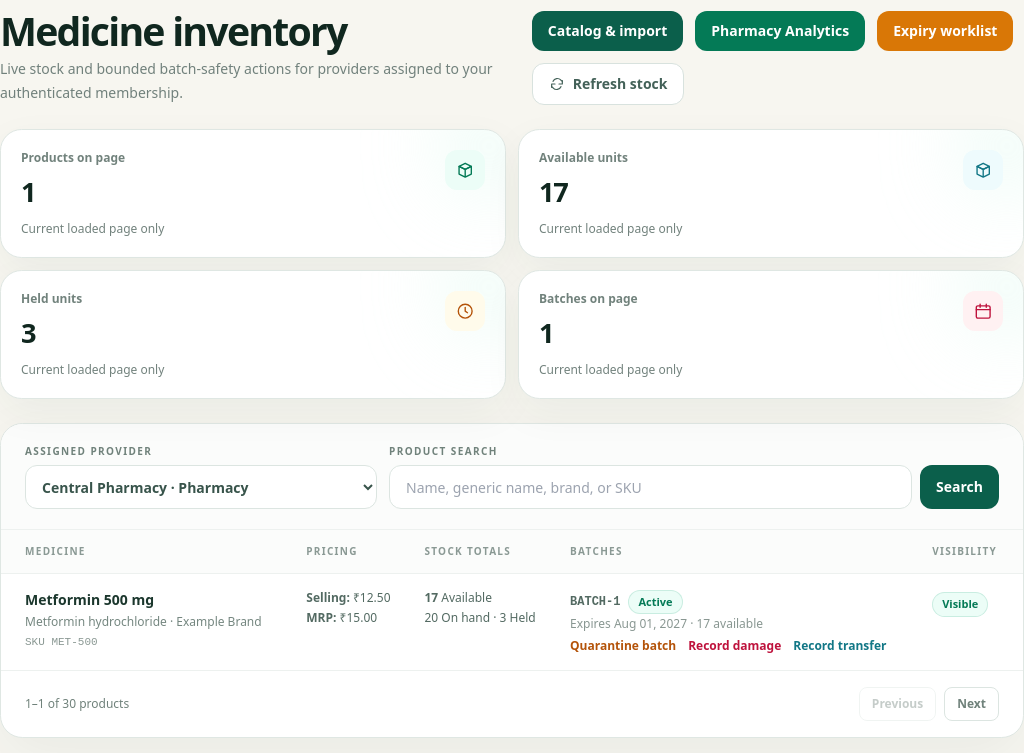
it: InventoryWorkspace live integration › confirms a version-safe one-way quarantine and refreshes live stock
The width and height of the screenshot is (1024, 753).
Click the button with aria-label "Quarantine batch BATCH-1" at (623, 646), box [570,638,676,654]
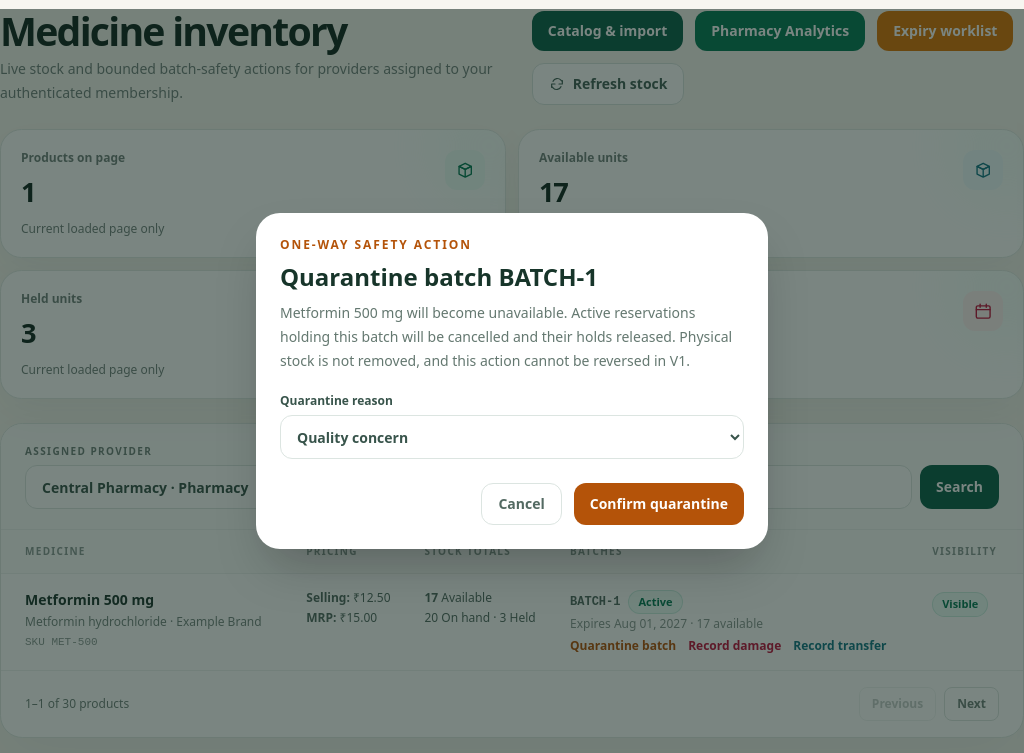
Check: the dialog shows "cannot be reversed in V1", box [280,303,732,370]
Select "Temperature excursion" in the dropdown labelled "Quarantine reason" at (512, 437), box [280,415,744,459]
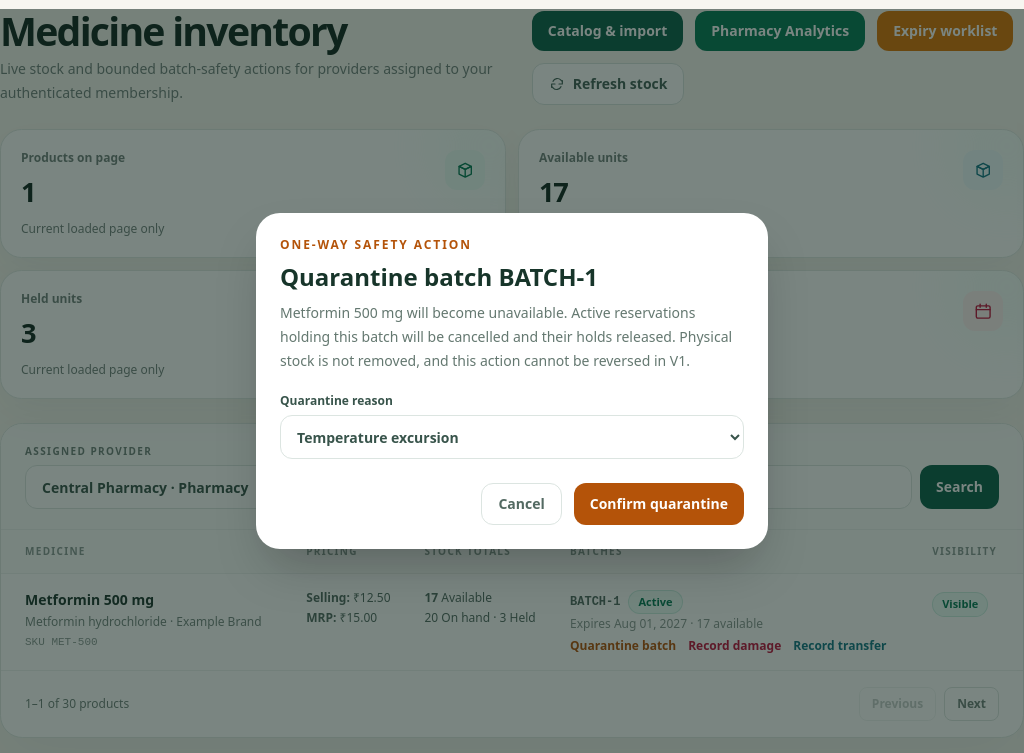
Click the button "Confirm quarantine" at (659, 504), box [574,483,744,525]
(page scrolled)
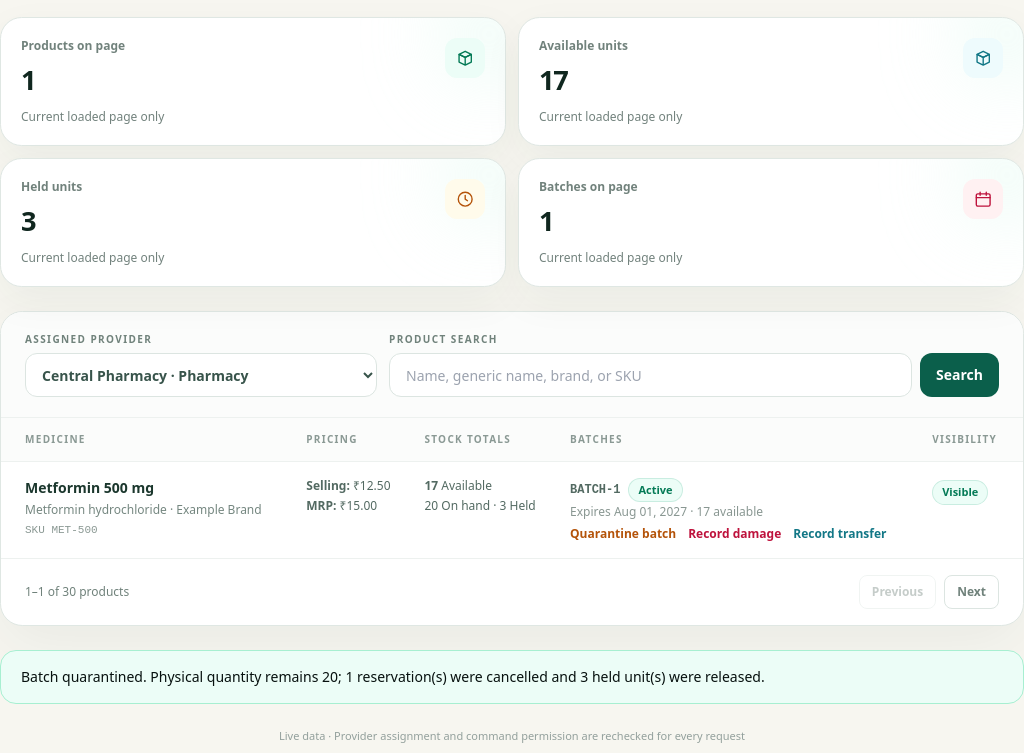
Check: the message shows "1 reservation(s) were cancelled and 3 held unit(s) were released", box [21,667,765,686]
